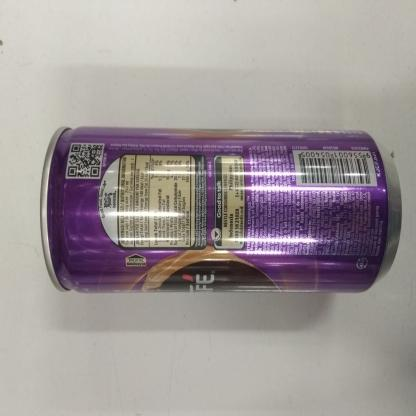bottle: (38, 119, 406, 297)
